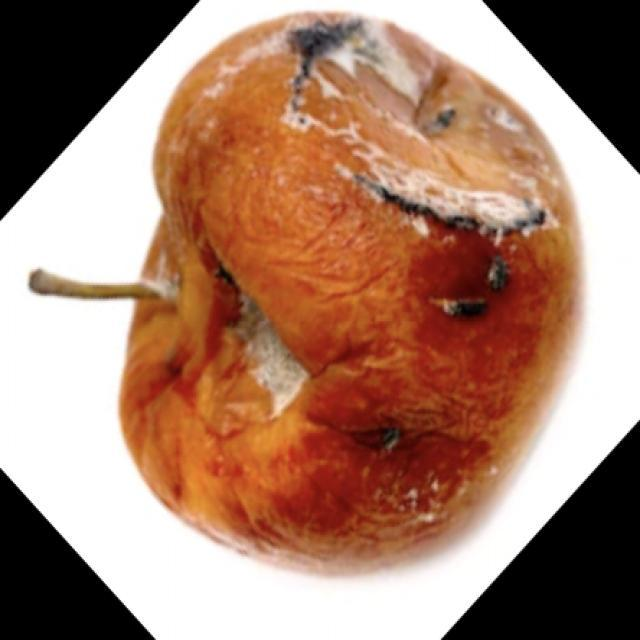Rotten: (122, 16, 555, 556)
